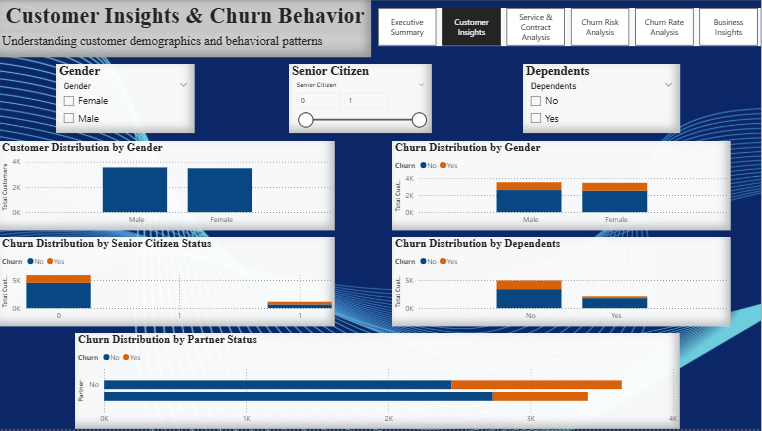

The page's visual inventory and layout, read from the dashboard file:
{"tool":"powerbi","page":{"name":"Customer Insights","canvas":[1280,720],"ordinal":1},"visuals":[{"type":"textbox","box":[0,0,624.9,73.9],"z":0},{"type":"textbox","box":[0,52.1,624.9,43.7],"z":1000},{"type":"slicer","title":"Gender","fields":{"Values":["Customer_Churn.Gender"]},"box":[95.7,107.5,233.5,115.9],"z":2000},{"type":"slicer","title":"Senior Citizen","fields":{"Values":["Customer_Churn.Senior Citizen"]},"box":[487.1,107.5,240.2,115.9],"z":3000},{"type":"slicer","title":"Dependents","fields":{"Values":["Customer_Churn.Dependents"]},"box":[880.2,107.5,263.7,115.9],"z":4000},{"type":"clusteredColumnChart","title":"Customer Distribution by Gender","fields":{"Category":["Customer_Churn.Gender"],"Y":["Customer_Churn.Total Customers"]},"box":[0,236.9,564.4,149.5],"z":5000},{"type":"columnChart","title":"Churn Distribution by Gender","fields":{"Category":["Customer_Churn.Gender"],"Y":["Customer_Churn.Total Customers"],"Series":["Customer_Churn.Churn"]},"box":[660.2,236.9,569.4,149.5],"z":6000},{"type":"columnChart","title":"Churn Distribution by Senior Citizen Status","fields":{"Category":["Customer_Churn.Senior Citizen"],"Y":["Customer_Churn.Total Customers"],"Series":["Customer_Churn.Churn"]},"box":[0,398.1,564.4,149.5],"z":7000},{"type":"columnChart","title":"Churn Distribution by Dependents","fields":{"Category":["Customer_Churn.Dependents"],"Y":["Customer_Churn.Total Customers"],"Series":["Customer_Churn.Churn"]},"box":[660.2,398.1,569.4,149.5],"z":8000},{"type":"barChart","title":"Churn Distribution by Partner Status","fields":{"Category":["Customer_Churn.Partner"],"Y":["Customer_Churn.Total Customers"],"Series":["Customer_Churn.Churn"]},"box":[127.7,559.4,1016.3,161.3],"z":9000},{"type":"pageNavigator","box":[636.6,13.4,643.4,63.8],"z":10000}]}

Visuals, with their boxes in screenshot pixels (x1, y1, x2, y2), scaled from the page's 1280x720 canvas onto the 762x431 screenshot:
textbox: BBox(0, 0, 372, 44)
textbox: BBox(0, 31, 372, 57)
"Gender" slicer: BBox(57, 64, 196, 134)
"Senior Citizen" slicer: BBox(290, 64, 433, 134)
"Dependents" slicer: BBox(524, 64, 681, 134)
"Customer Distribution by Gender" clusteredColumnChart: BBox(0, 142, 336, 231)
"Churn Distribution by Gender" columnChart: BBox(393, 142, 732, 231)
"Churn Distribution by Senior Citizen Status" columnChart: BBox(0, 238, 336, 328)
"Churn Distribution by Dependents" columnChart: BBox(393, 238, 732, 328)
"Churn Distribution by Partner Status" barChart: BBox(76, 335, 681, 430)
pageNavigator: BBox(379, 8, 761, 46)
